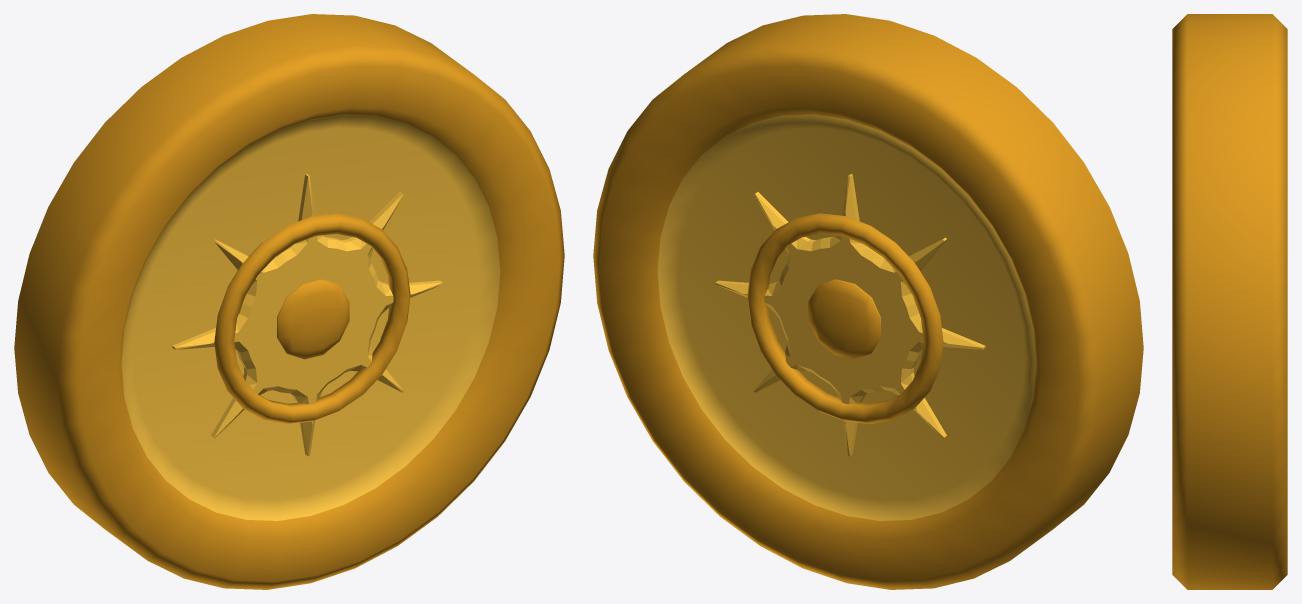
The model's file is coin.glb.
3 views of the same model, side by side, from view 1: azimuth 30°, elevation 25°; view 2: azimuth 150°, elevation 25°; view 3: azimuth 270°, elevation 25° (orthographic).
Visible parts, largest first — view 1: coin; view 2: coin; view 3: coin.
Boxes of the visible parts, <box> form: coin: <box>14,14,564,589</box>; coin: <box>593,14,1143,589</box>; coin: <box>1172,14,1287,589</box>.
Bounding box in the file's own units: 0.6 × 0.6 × 0.12.
